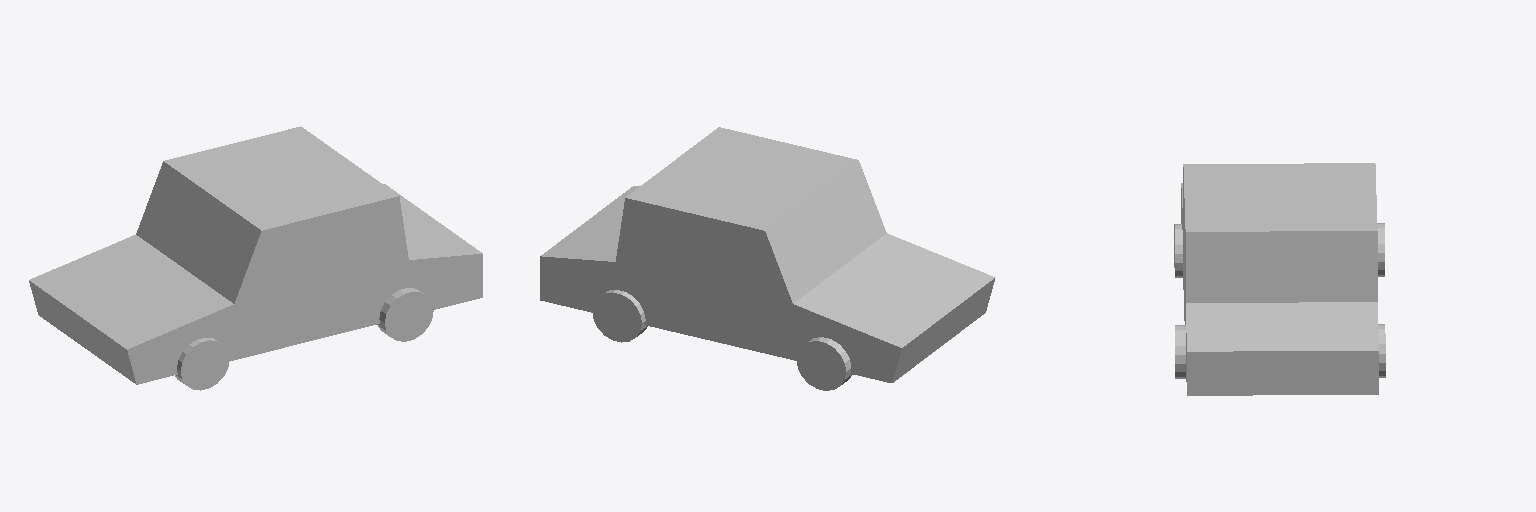
File: car_5.obj
3 views of the same model, side by side, from view 1: azimuth 30°, elevation 25°; view 2: azimuth 150°, elevation 25°; view 3: azimuth 270°, elevation 25° (orthographic).
Parts seen in each view (by area): view 1: Car_05; view 2: Car_05; view 3: Car_05.
Boxes of the visible parts, <box> form: Car_05: <box>29,126,482,390</box>; Car_05: <box>540,127,995,390</box>; Car_05: <box>1174,163,1385,395</box>.
Bounding box in the file's own units: 1.79 × 0.6725 × 0.9077.